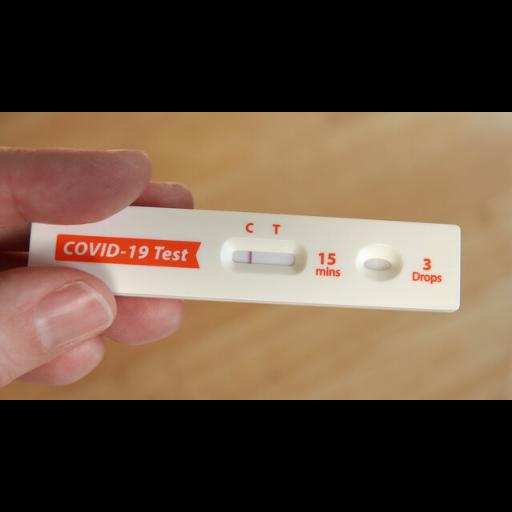Neg: (28, 201, 461, 310)
